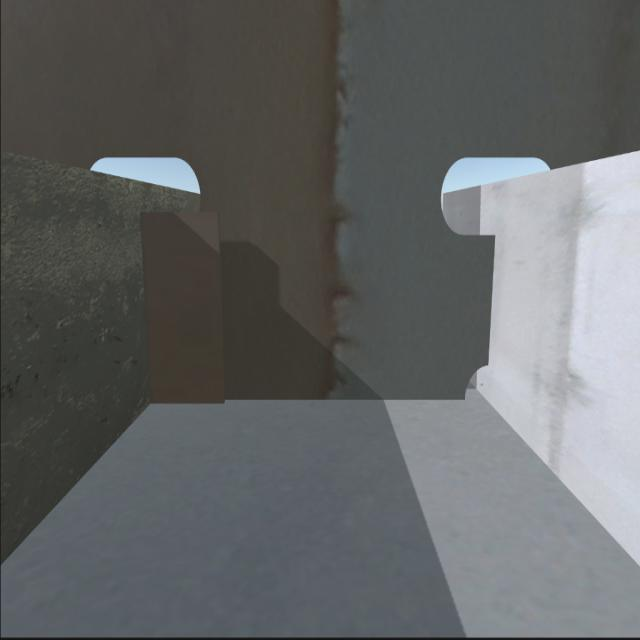fillet_hole: (459, 359, 490, 396)
fillet_yong_jeop_jang: (145, 394, 464, 403)
longi_yong_jeop_jang: (138, 219, 156, 406), (481, 231, 497, 367)
plate_CP01: (142, 212, 228, 402)
